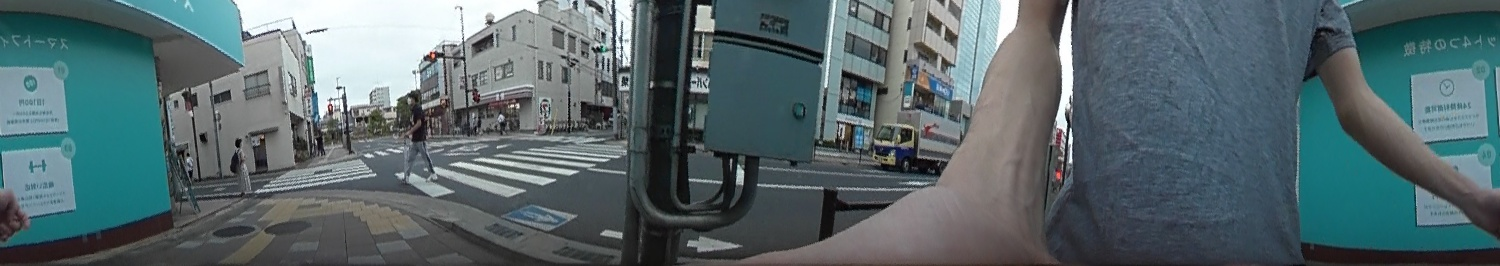difficult_person: (181, 150, 194, 180), (496, 110, 506, 135)
person: (400, 88, 439, 186), (231, 135, 252, 197)
